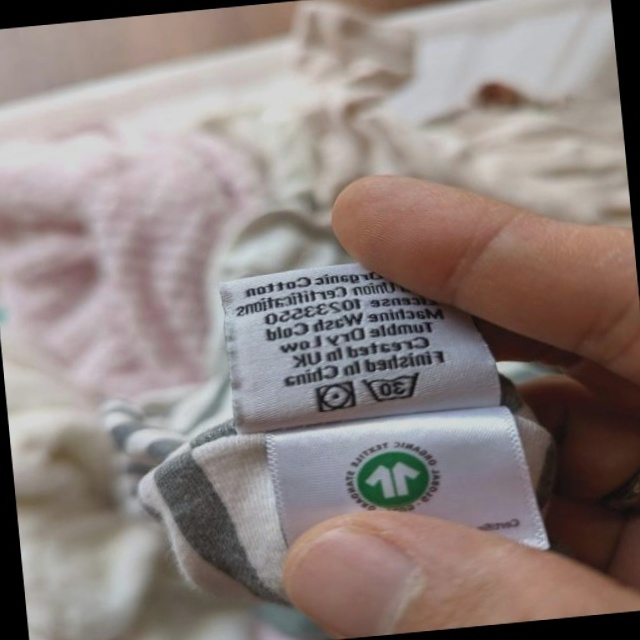30C: (359, 367, 427, 407)
tumble_dry_low: (312, 378, 359, 417)
